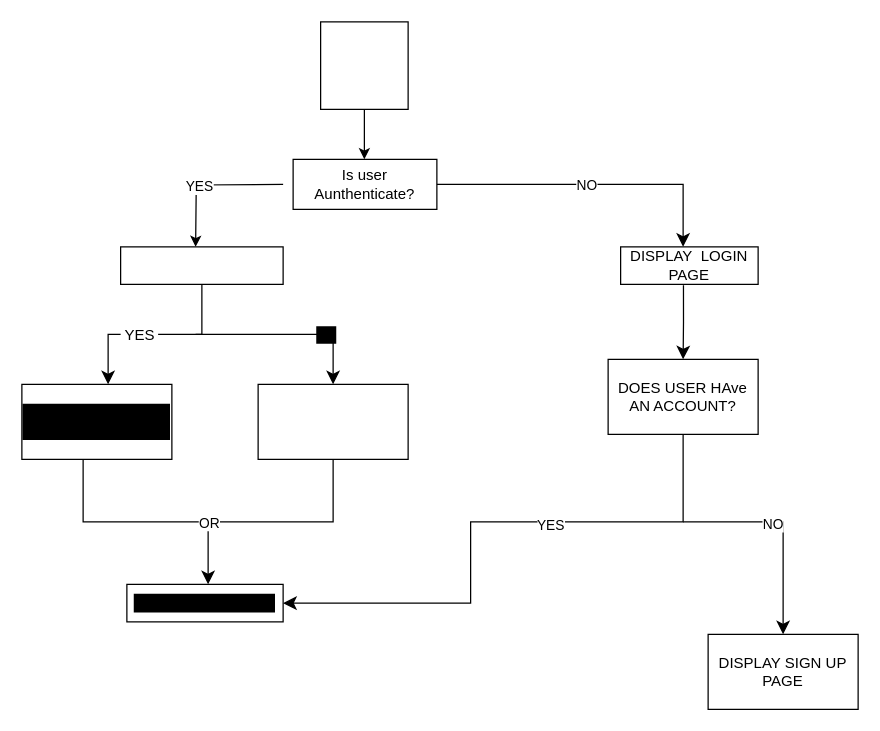
This 880x731 diagram has some shape labels left out. The shapes that lost their labels are listed below. From the top down, each one's centre as x and y in pixels, then its label:
the point at 363,65: START
the point at 201,265: Is Internet Connection Present ?
the point at 332,421: Fetch blogs from Local Storage
